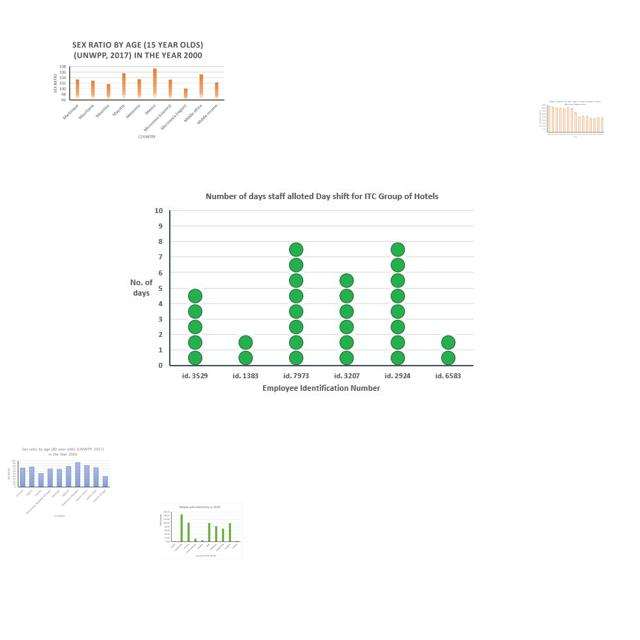Graph: (120, 183, 479, 402), (48, 38, 227, 143), (5, 445, 111, 519), (157, 503, 243, 560), (539, 99, 605, 138)
